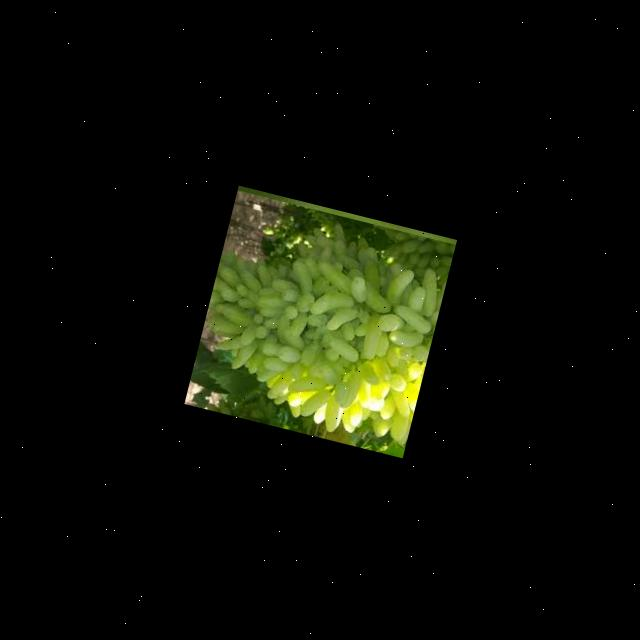grape: (186, 192, 454, 450)
